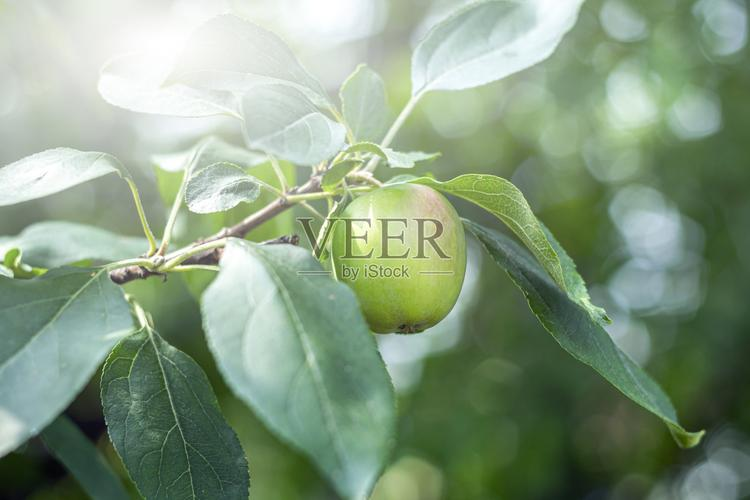unripe: (324, 182, 474, 342)
